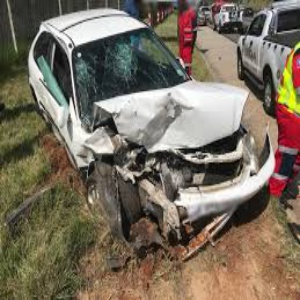bonnet: (120, 87, 247, 150)
bumper: (131, 159, 278, 246)
